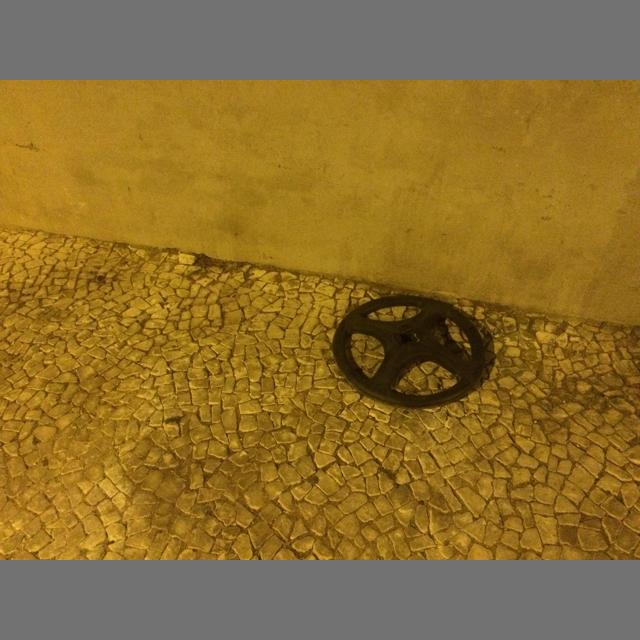litter: (332, 295, 485, 409), (166, 367, 171, 371)
